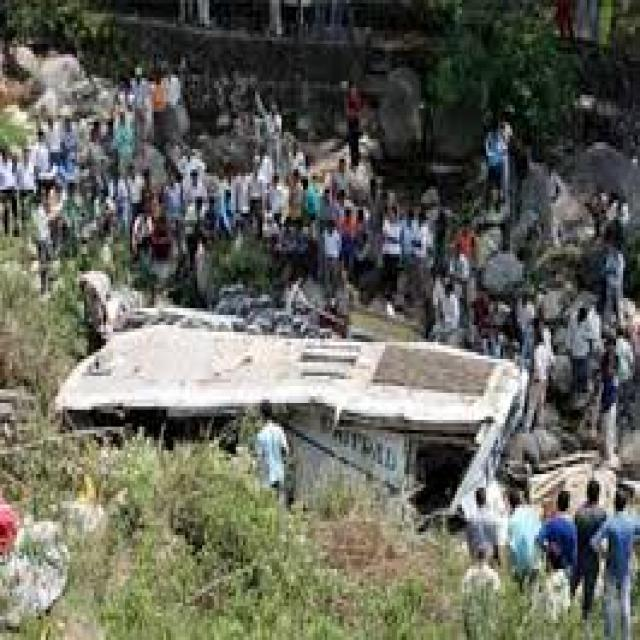accident: (62, 277, 625, 569)
